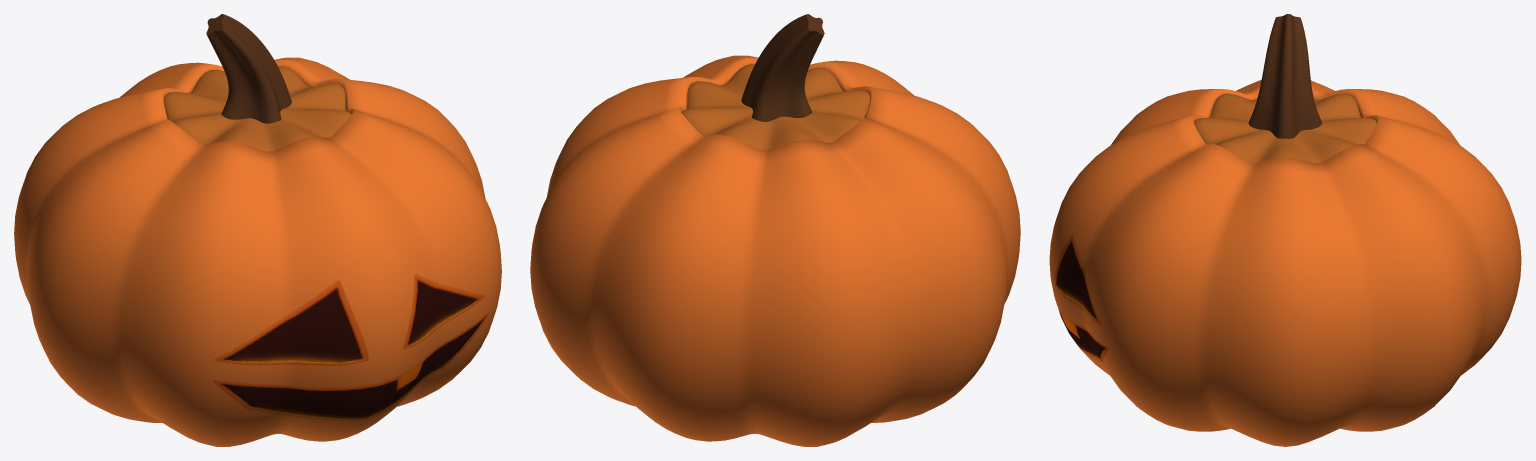
Rendered from Pumpkin.glb.
The picture shows the model from 3 angles, left to right: view 1: azimuth 30°, elevation 25°; view 2: azimuth 150°, elevation 25°; view 3: azimuth 270°, elevation 25°; orthographic projection. The views are drawn at different scales.
Parts seen in each view (by area): view 1: Sphere, Sphere.001, NurbsPath; view 2: Sphere, Sphere.001, NurbsPath; view 3: Sphere, Sphere.001, NurbsPath.
Boxes of the visible parts, x1,y1,x2,y2 form: Sphere: (14, 57, 501, 446); Sphere.001: (163, 66, 351, 151); NurbsPath: (206, 14, 291, 123); Sphere: (530, 55, 1020, 446); Sphere.001: (681, 64, 870, 149); NurbsPath: (741, 14, 824, 121); Sphere: (1049, 80, 1521, 446); Sphere.001: (1194, 93, 1376, 163); NurbsPath: (1248, 14, 1322, 138).
Bounding box in the file's own units: 1.84 × 1.59 × 1.84.
Materials: 3 (1 with a texture image).
